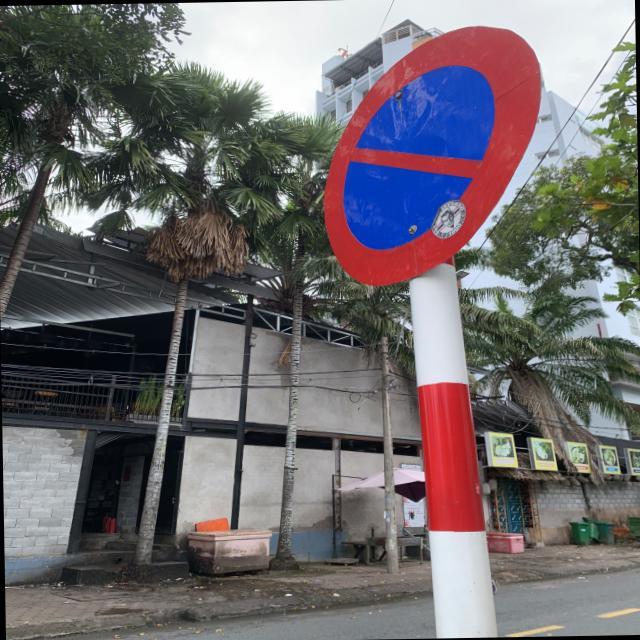Cam_Dau_Xe: (316, 25, 548, 286)
